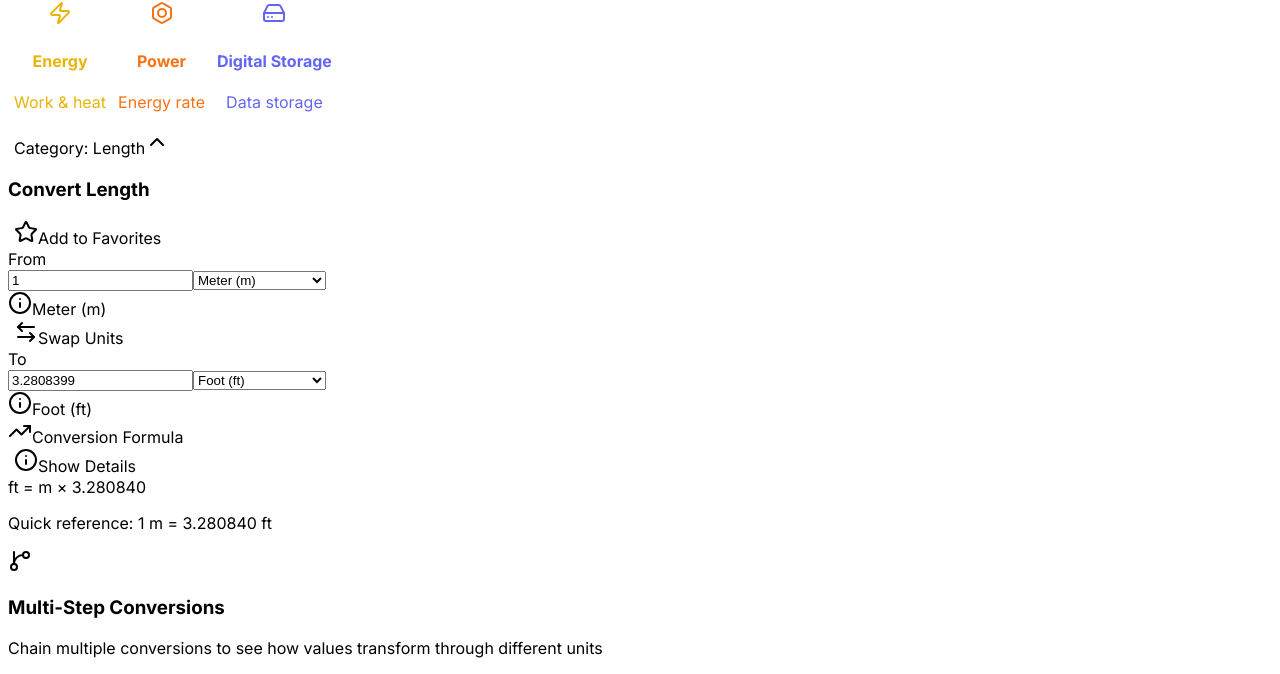
Test: Unit Converter Page › Unit Conversion › handles zero input correctly
(page scrolled)
Replace the text in the field with placeholder "Enter value" with "0" at (100, 281), box [8,270,193,291]
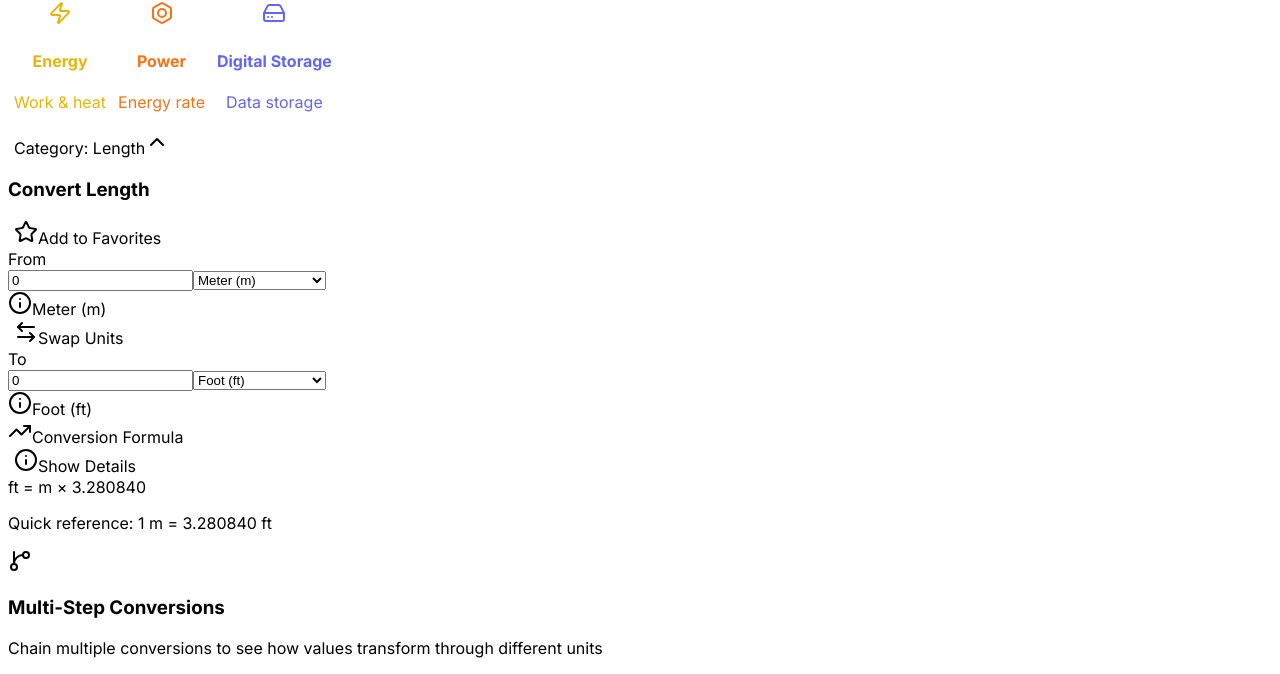
Check: the field with placeholder "Result" holds "0", box [8,370,193,391]
